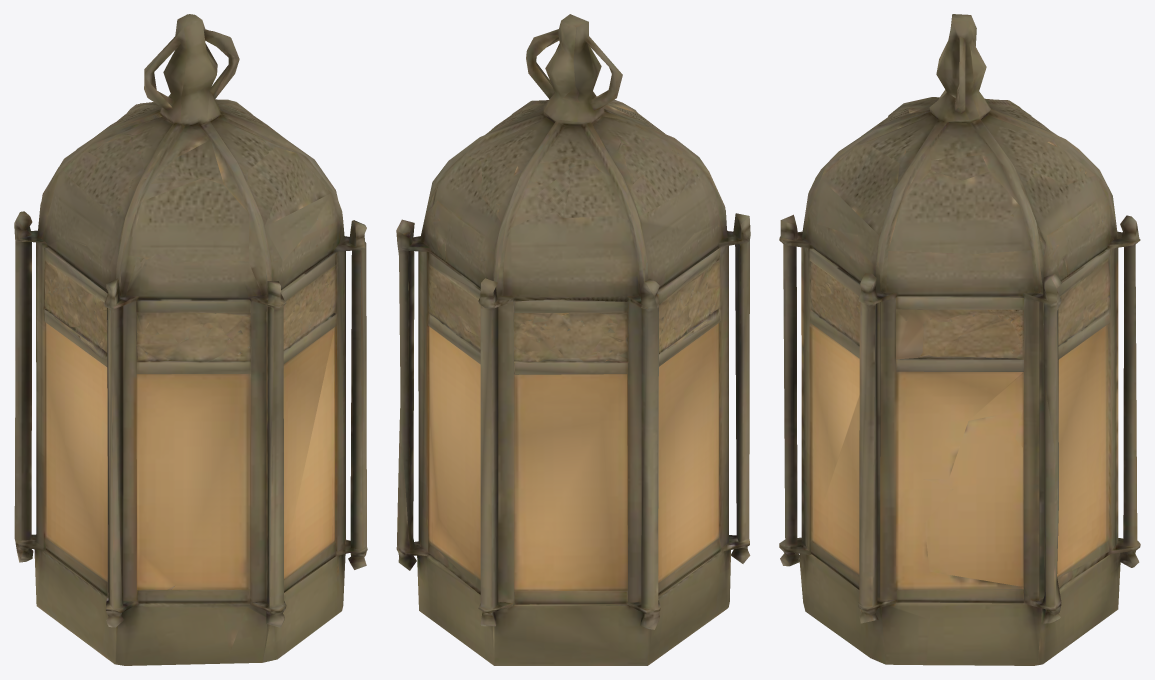
File: p-lantern.glb
3 renders of one model, left to right at view 1: azimuth 30°, elevation 25°; view 2: azimuth 150°, elevation 25°; view 3: azimuth 270°, elevation 25°, orthographic.
Parts seen in each view (by area): view 1: node_0; view 2: node_0; view 3: node_0.
Boxes of the visible parts, x1=… form: node_0: x1=14, y1=14, x2=367, y2=665; node_0: x1=396, y1=14, x2=750, y2=665; node_0: x1=779, y1=14, x2=1140, y2=665.
Bounding box in the file's own units: 0.5006 × 1.08 × 0.5971.
Materials: 1 (1 with a texture image).
